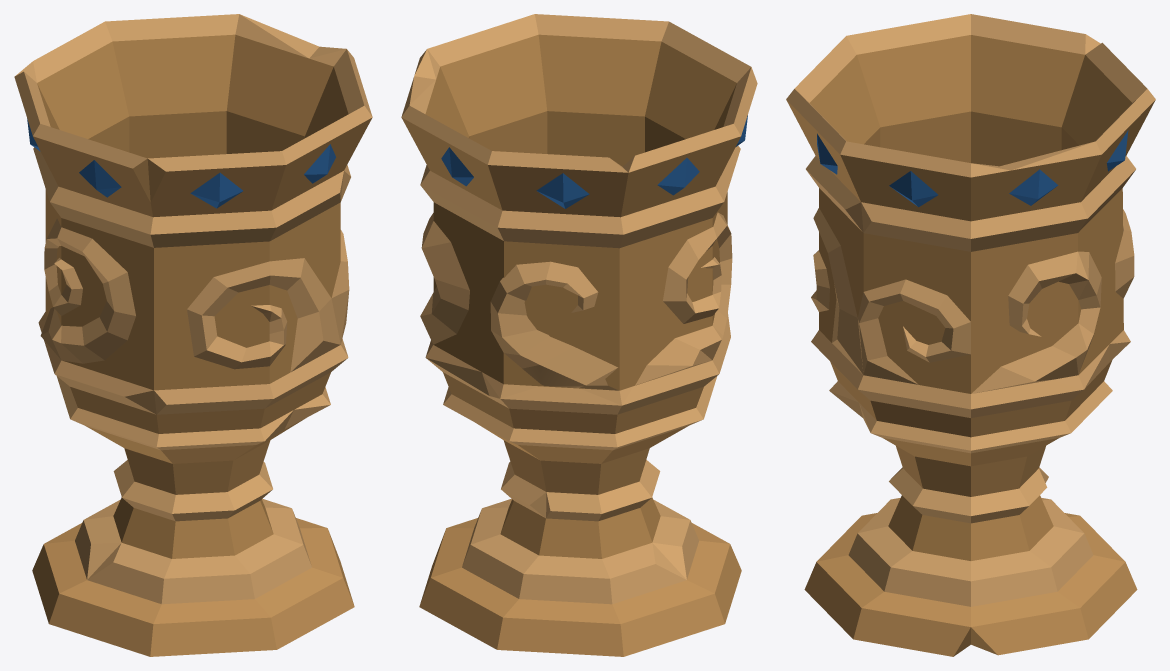
File: SM_Prop_Treasure_Cup_01.fbx
3 views of the same model, side by side, from view 1: azimuth 30°, elevation 25°; view 2: azimuth 150°, elevation 25°; view 3: azimuth 270°, elevation 25° (orthographic).
Parts seen in each view (by area): view 1: SM_Prop_Treasure_Cup_01; view 2: SM_Prop_Treasure_Cup_01; view 3: SM_Prop_Treasure_Cup_01.
Part boxes in pixels (x1=…): SM_Prop_Treasure_Cup_01: x1=14, y1=14, x2=372, y2=656; SM_Prop_Treasure_Cup_01: x1=401, y1=14, x2=757, y2=656; SM_Prop_Treasure_Cup_01: x1=786, y1=14, x2=1155, y2=656.
Bounding box in the file's own units: 18.04 × 26.97 × 18.04.
